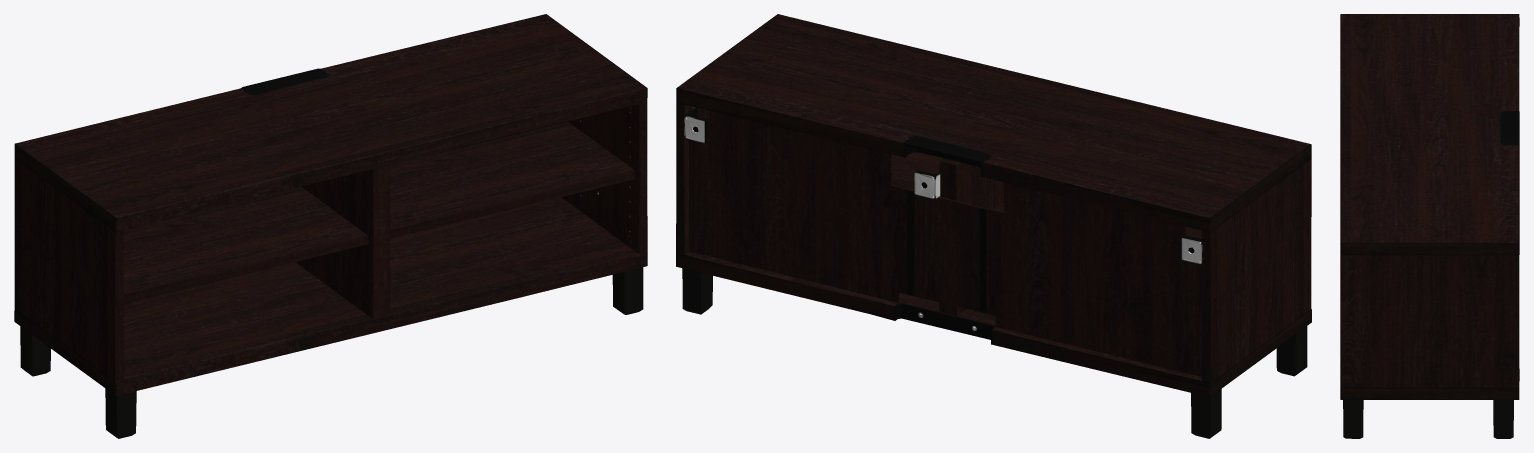
Rendered from 29 - BESTÅ TV bench - black-brown 120x40x48 cm.glb.
The picture shows the model from 3 angles, left to right: view 1: azimuth 30°, elevation 25°; view 2: azimuth 150°, elevation 25°; view 3: azimuth 270°, elevation 25°; orthographic projection. The views are drawn at different scales.
Parts seen in each view (by area): view 1: ProcessedMeshNode; view 2: ProcessedMeshNode; view 3: ProcessedMeshNode.
Part boxes in pixels (<box>): ProcessedMeshNode: <box>14,14,647,438</box>; ProcessedMeshNode: <box>676,14,1311,438</box>; ProcessedMeshNode: <box>1340,14,1519,438</box>.
Bounding box in the file's own units: 1.2 × 0.488 × 0.3969.
1 material, 1 textured.
